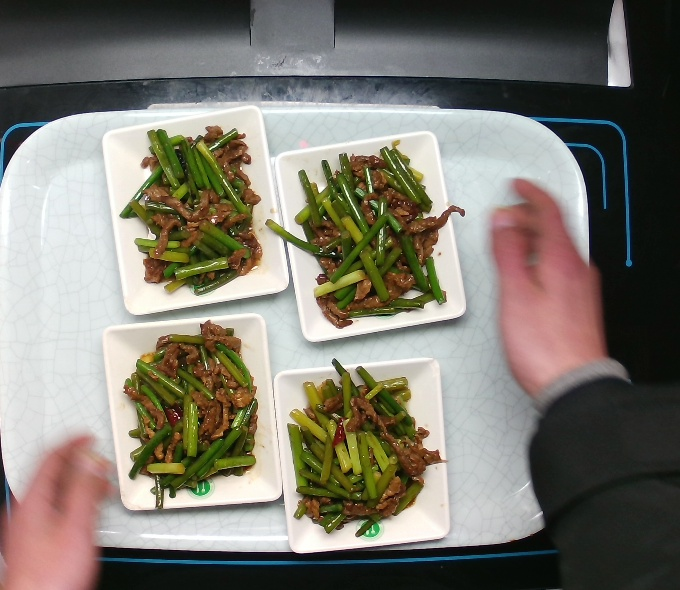wcq-SuanMiaoNiuRou: (287, 135, 448, 325), (279, 354, 442, 536), (116, 317, 267, 508), (114, 118, 267, 298)
